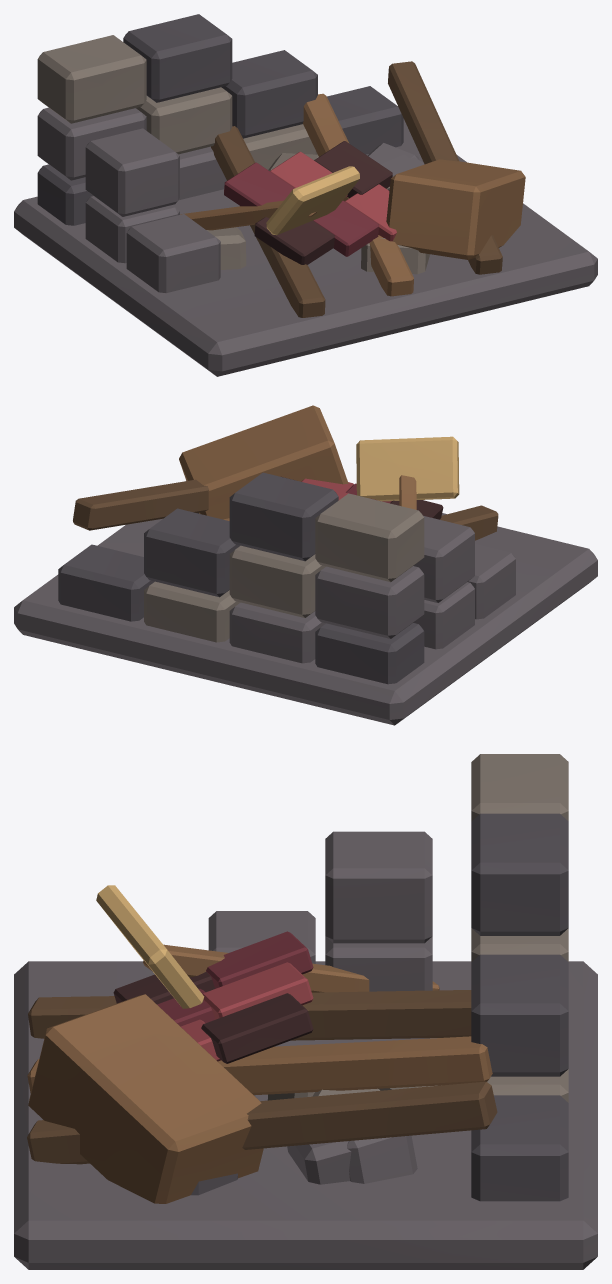
Rendered from ruin_market-BRhU2zS3.glb.
The picture shows the model from 3 angles, top to bottom: view 1: azimuth 30°, elevation 25°; view 2: azimuth 150°, elevation 25°; view 3: azimuth 270°, elevation 25°; orthographic projection. The views are drawn at different scales.
Parts seen in each view (by area): view 1: ruin_market_l1_body; view 2: ruin_market_l1_body; view 3: ruin_market_l1_body.
Part boxes in pixels (x1,y1,x2,y2): ruin_market_l1_body: [14, 14, 597, 376]; ruin_market_l1_body: [14, 405, 597, 725]; ruin_market_l1_body: [14, 754, 597, 1269].
Size of the model in its own units: 0.66 by 0.3005 by 0.6.
Materials: 1 (1 with a texture image).
